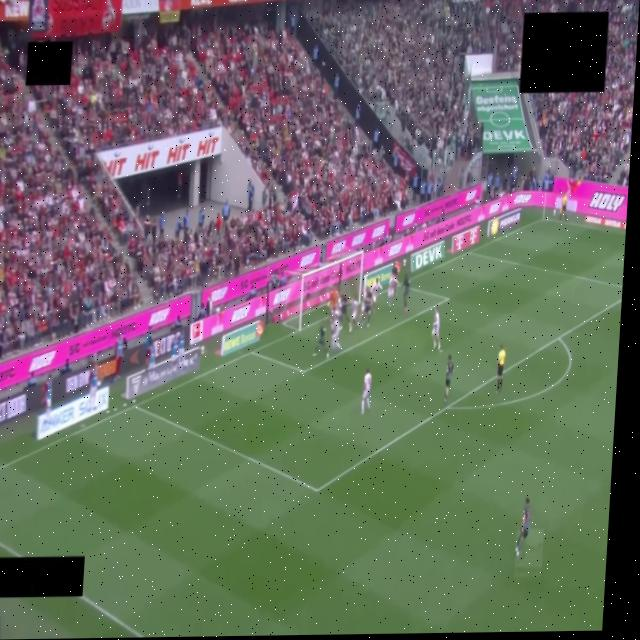player: (516, 498, 531, 556), (329, 314, 343, 351), (314, 325, 329, 358), (401, 272, 412, 313), (361, 369, 371, 414), (432, 308, 441, 351), (445, 355, 453, 403), (349, 298, 360, 332), (362, 289, 372, 326), (371, 277, 382, 309), (388, 274, 398, 306), (339, 295, 349, 326), (329, 291, 338, 312)
referee: (496, 344, 507, 393)
